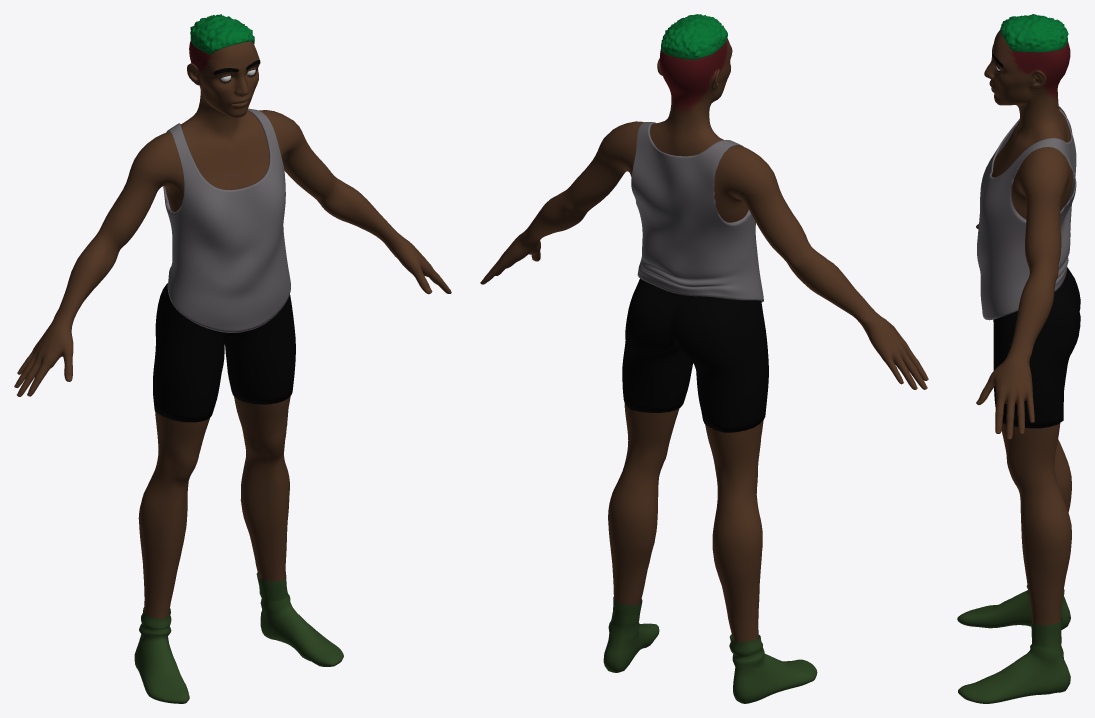
File: Ava_Model.fbx
3 views of the same model, side by side, from view 1: azimuth 30°, elevation 25°; view 2: azimuth 150°, elevation 25°; view 3: azimuth 270°, elevation 25° (orthographic). The views are drawn at different scales.
Parts seen in each view (by area): view 1: Ava_Body, Ava_ShirtFolds_2, Ava_Pants, Ava_Socks, Ava_hair; view 2: Ava_Body, Ava_Pants, Ava_ShirtFolds_2, Ava_Socks, Ava_hair; view 3: Ava_Body, Ava_ShirtFolds_2, Ava_Socks, Ava_Pants, Ava_hair.
Boxes of the visible parts, x1,y1,x2,y2 form: Ava_Body: (14,40,451,618); Ava_ShirtFolds_2: (163,108,290,332); Ava_Pants: (153,283,295,422); Ava_Socks: (134,572,343,703); Ava_hair: (190,14,254,54); Ava_Body: (480,38,928,642); Ava_Pants: (622,278,768,432); Ava_ShirtFolds_2: (631,122,763,302); Ava_Socks: (603,596,817,703); Ava_hair: (661,14,727,59); Ava_Body: (976,30,1072,625); Ava_ShirtFolds_2: (977,108,1076,320); Ava_Socks: (957,585,1070,703); Ava_Pants: (993,267,1080,428); Ava_hair: (1000,14,1068,52).
Size of the model in its own units: 128 by 181 by 31.35.
